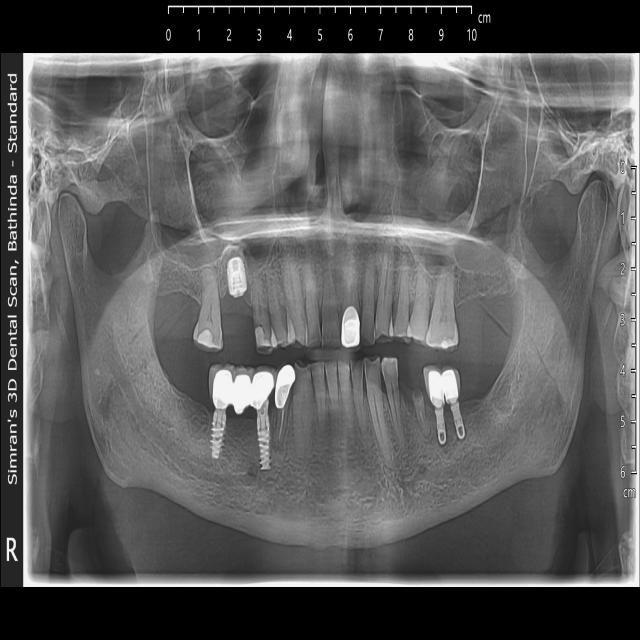Crown: (232, 368, 274, 415), (275, 364, 297, 408), (214, 368, 232, 411), (424, 367, 445, 403), (443, 362, 460, 405)
Filling: (252, 326, 271, 350), (197, 329, 215, 345)
Implant: (256, 396, 271, 469), (227, 256, 248, 299), (342, 306, 361, 348), (212, 408, 226, 458), (450, 397, 465, 440), (433, 404, 447, 449)
Mandibular Canal: (105, 337, 255, 487), (421, 328, 559, 486)
Missing teeth: (455, 293, 502, 344)
Root Canal Treatment: (278, 409, 283, 443)
Root Piece: (413, 388, 432, 441)
maxillary sinus: (390, 84, 527, 279), (147, 89, 281, 278)
